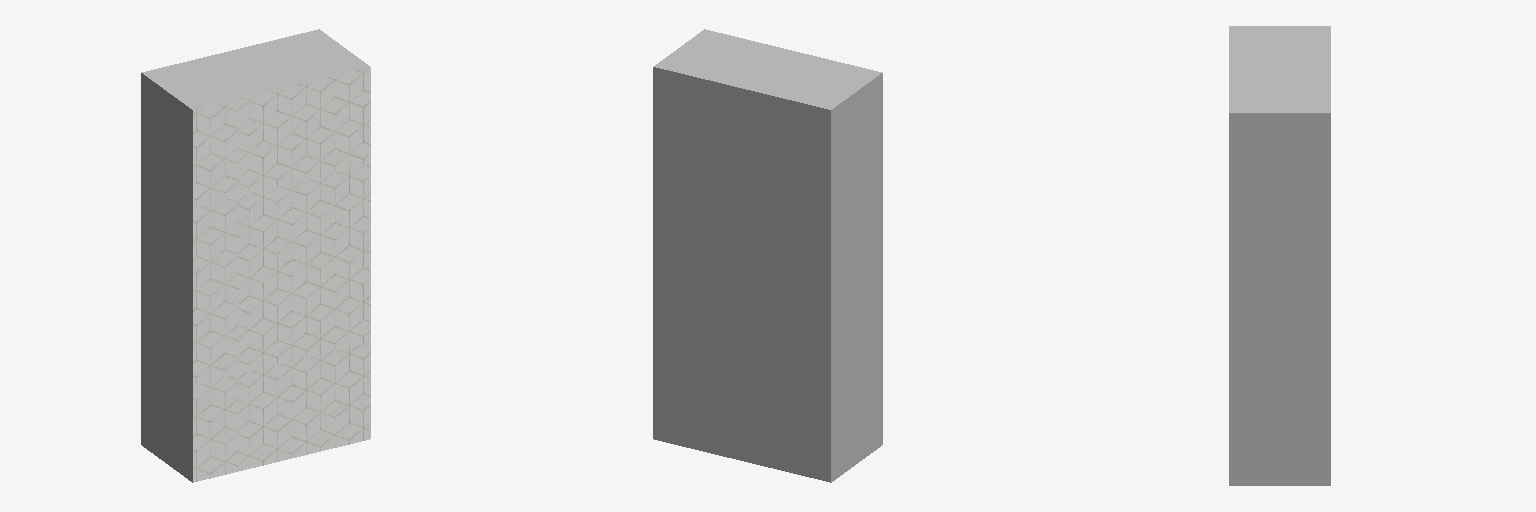
The picture shows the model from 3 angles: view 1: azimuth 30°, elevation 25°; view 2: azimuth 150°, elevation 25°; view 3: azimuth 270°, elevation 25°; orthographic projection.
Visible parts, largest first — view 1: Cube_Cube.001; view 2: Cube_Cube.001; view 3: Cube_Cube.001.
Part boxes in pixels (bbox=[...]): Cube_Cube.001: bbox=[141, 29, 370, 482]; Cube_Cube.001: bbox=[653, 29, 882, 482]; Cube_Cube.001: bbox=[1229, 26, 1330, 485].
Bounding box in the file's own units: 2 × 4 × 1.
2 materials, 1 textured.